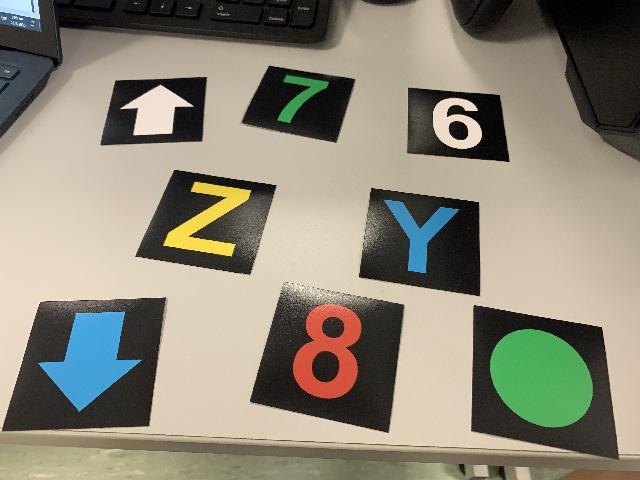alphabet_y: (359, 186, 483, 298)
alphabet_z: (134, 168, 278, 278)
down_arrow: (1, 296, 169, 433)
eight: (250, 277, 406, 435)
go: (471, 303, 621, 463)
seven: (239, 62, 357, 145)
six: (406, 87, 512, 163)
up_arrow: (98, 76, 208, 148)
